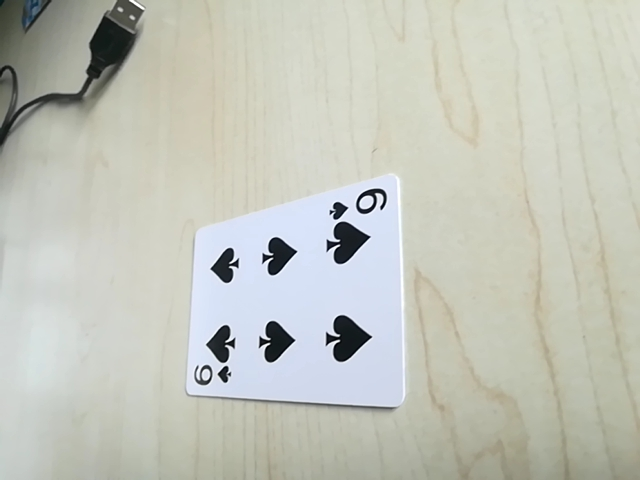ht 6: (328, 186, 392, 221), (189, 354, 238, 393)
